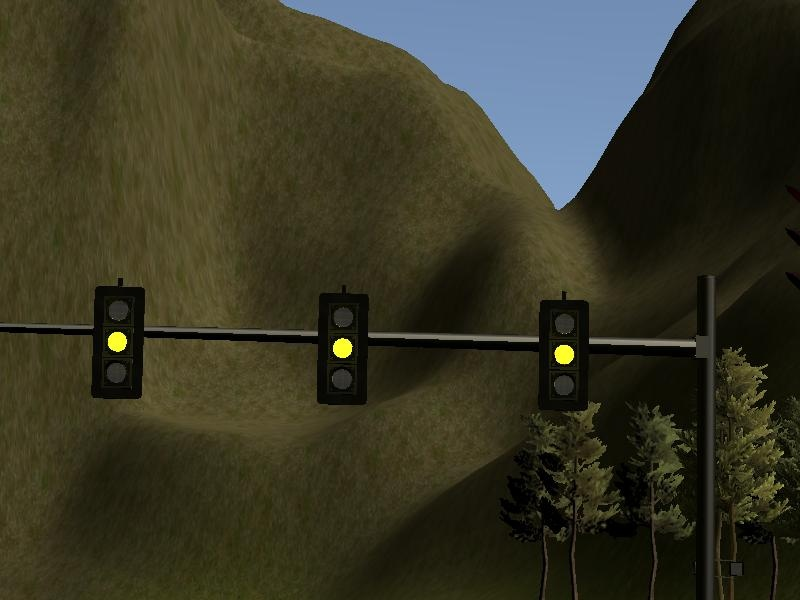YELLOW: (89, 285, 144, 401), (315, 292, 370, 408), (535, 296, 590, 412)
